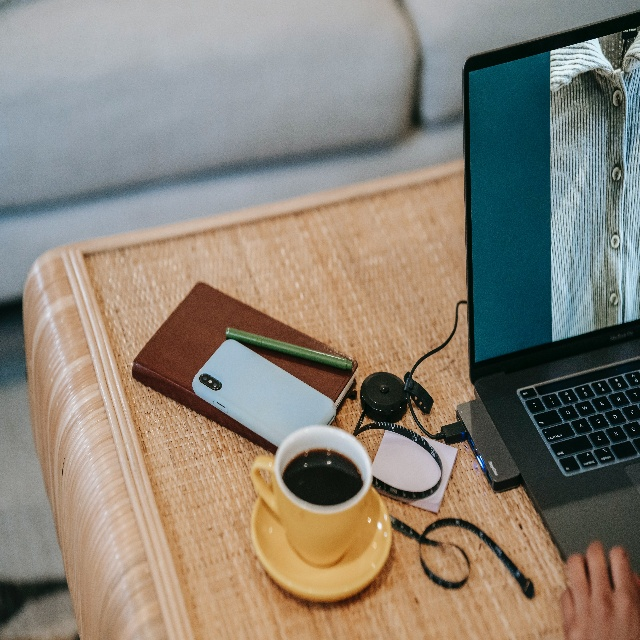Sin_guantes: (556, 546, 640, 640)
